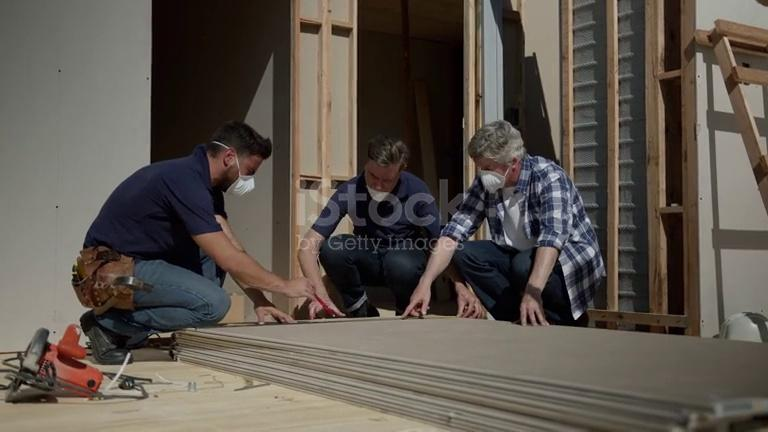mask: (222, 174, 257, 196), (474, 169, 506, 193), (366, 186, 403, 202)
person: (72, 121, 341, 364), (397, 123, 608, 327), (298, 133, 445, 316)
